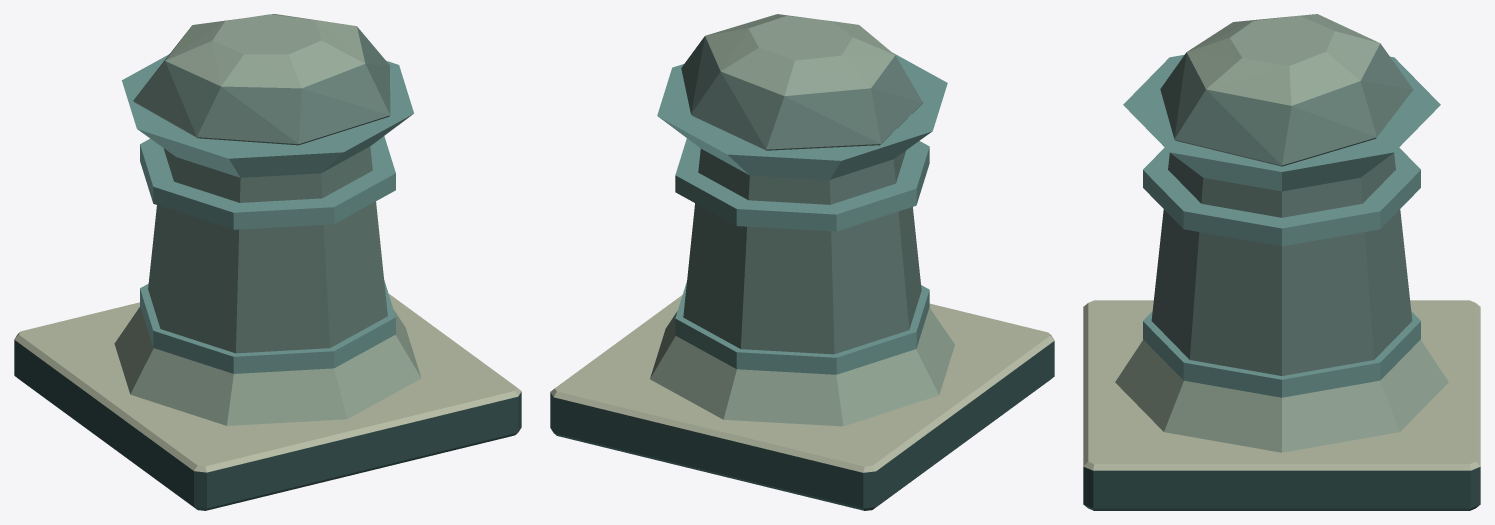
Rendered from pillar-broken.glb.
The picture shows the model from 3 angles, left to right: view 1: azimuth 30°, elevation 25°; view 2: azimuth 150°, elevation 25°; view 3: azimuth 270°, elevation 25°; orthographic projection. The views are drawn at different scales.
Visible parts, largest first — view 1: pillar-broken__body; view 2: pillar-broken__body; view 3: pillar-broken__body.
Boxes of the visible parts, x1,y1,x2,y2 form: pillar-broken__body: (14,14,521,510); pillar-broken__body: (550,14,1054,510); pillar-broken__body: (1083,14,1480,510).
Size of the model in its own units: 1 by 1.08 by 1.
